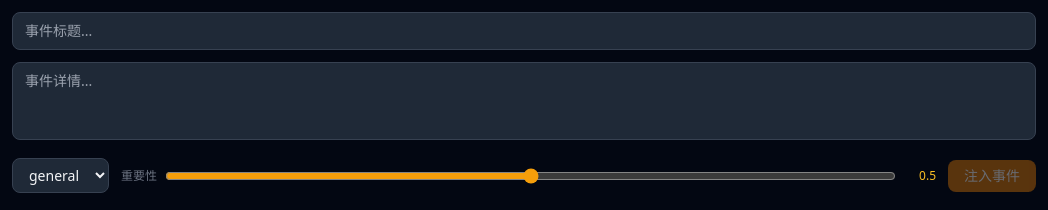
Test: EventInjectForm › 标题和内容都填写后提交按钮应启用
Type "测试标题" into the field with placeholder "事件标题..." at (524, 31), box [12,12,1036,50]
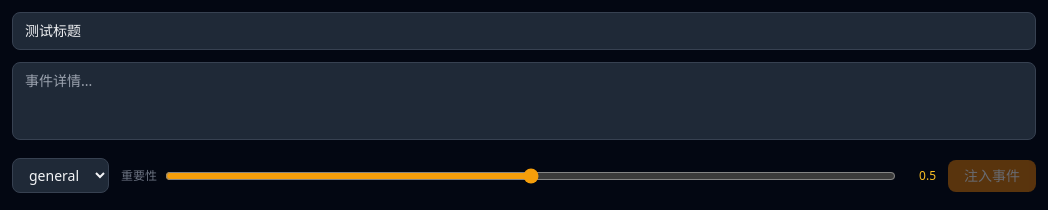
Type "测试内容" into the text box with placeholder "事件详情..." at (524, 101), box [12,62,1036,140]
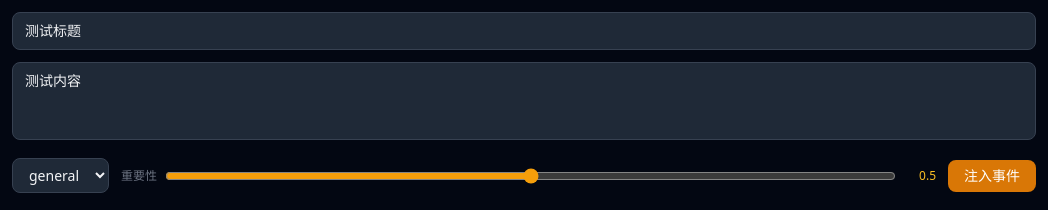
Now the button "注入事件" is enabled, box [948,160,1036,192]
